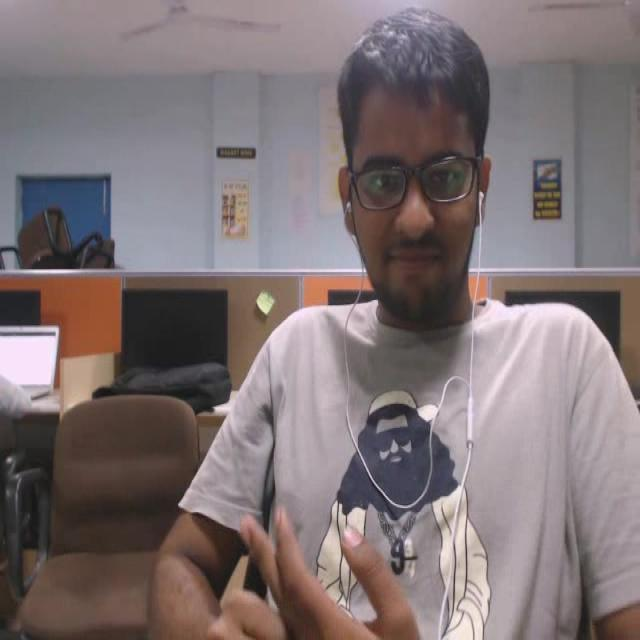Engaged: (315, 14, 526, 342)
